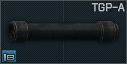AK 5.45x39 TGP-A muzzle device%5suppressor: (0, 0, 127, 64)
